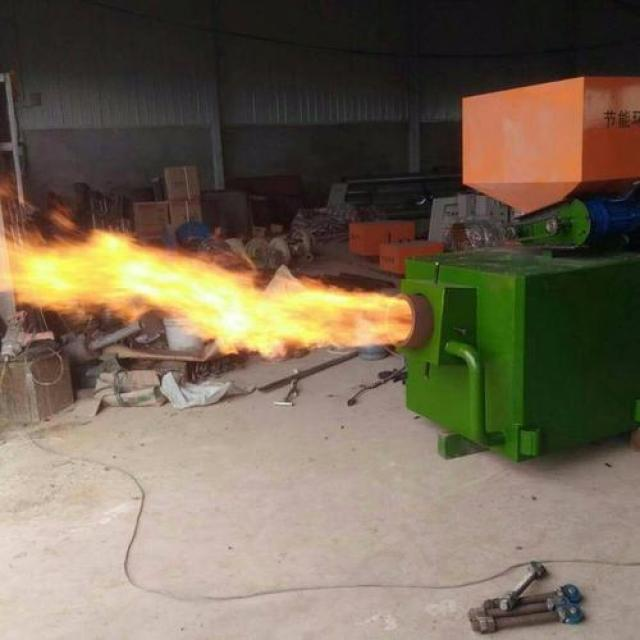fire: (3, 190, 409, 378)
other: (437, 66, 632, 214)
